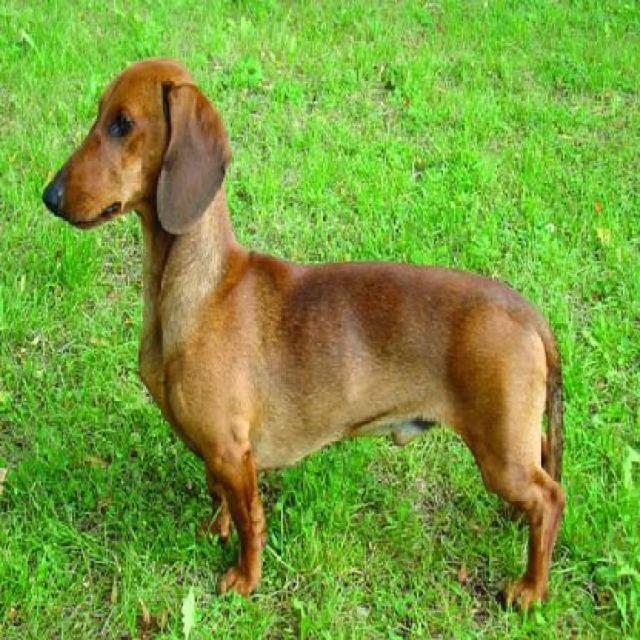Dog: (40, 49, 569, 609)
